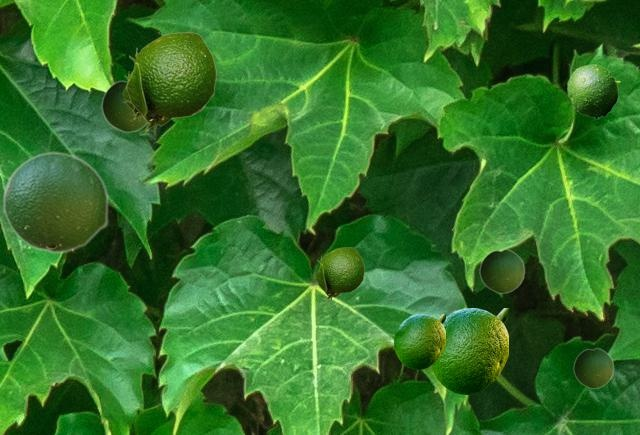dalandan: (2, 151, 108, 253), (125, 32, 215, 134), (431, 308, 507, 393), (567, 64, 619, 118), (394, 314, 444, 368), (315, 247, 363, 301), (101, 80, 147, 132), (479, 248, 524, 293), (573, 347, 613, 388), (122, 70, 141, 120)
